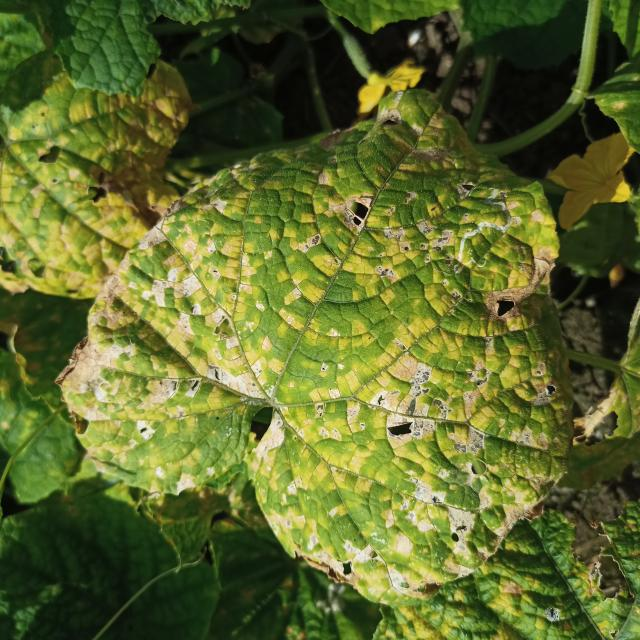disease_cucumber: (72, 101, 553, 582), (0, 63, 187, 296)
